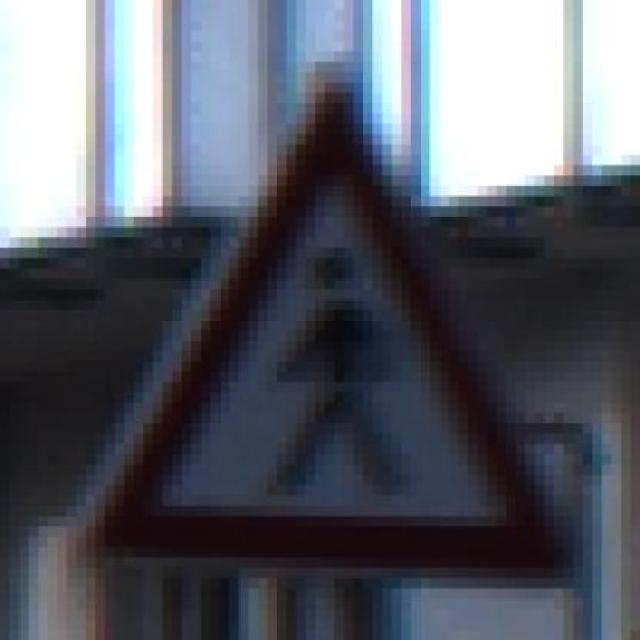Pedestrian Crossing: (76, 72, 582, 598)
